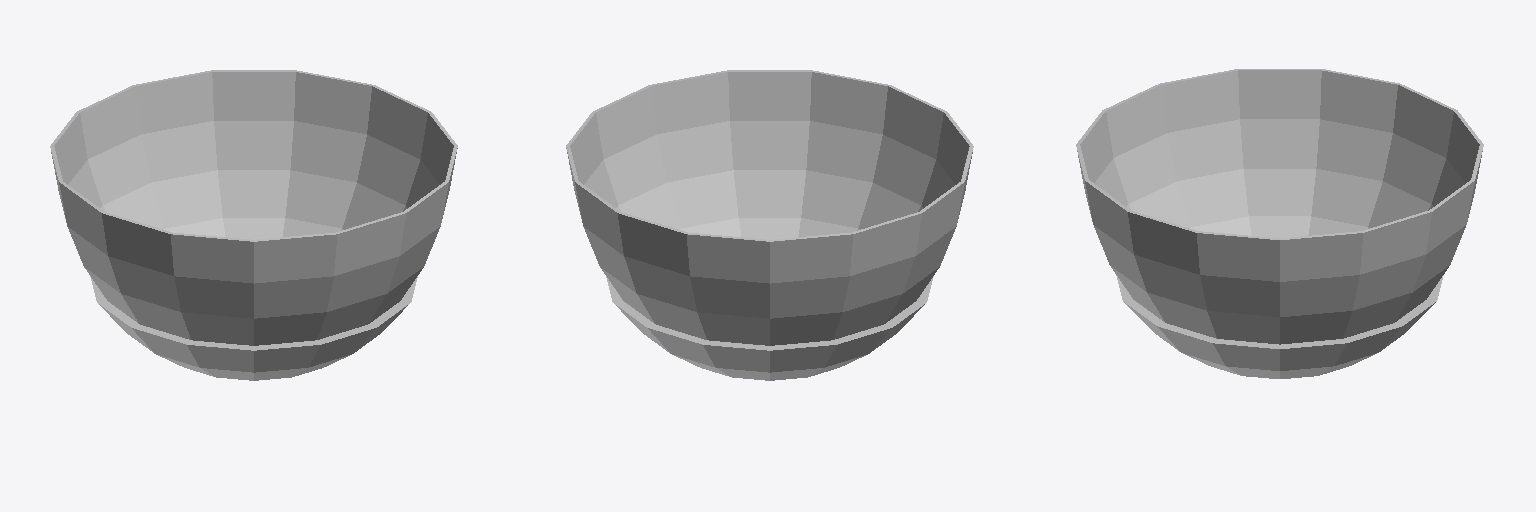
Rendered from lamp_lampShade_4.obj.
3 renders of one model, left to right at view 1: azimuth 30°, elevation 25°; view 2: azimuth 150°, elevation 25°; view 3: azimuth 270°, elevation 25°, orthographic.
Size of the model in its own units: 2.31 by 1.27 by 2.32.